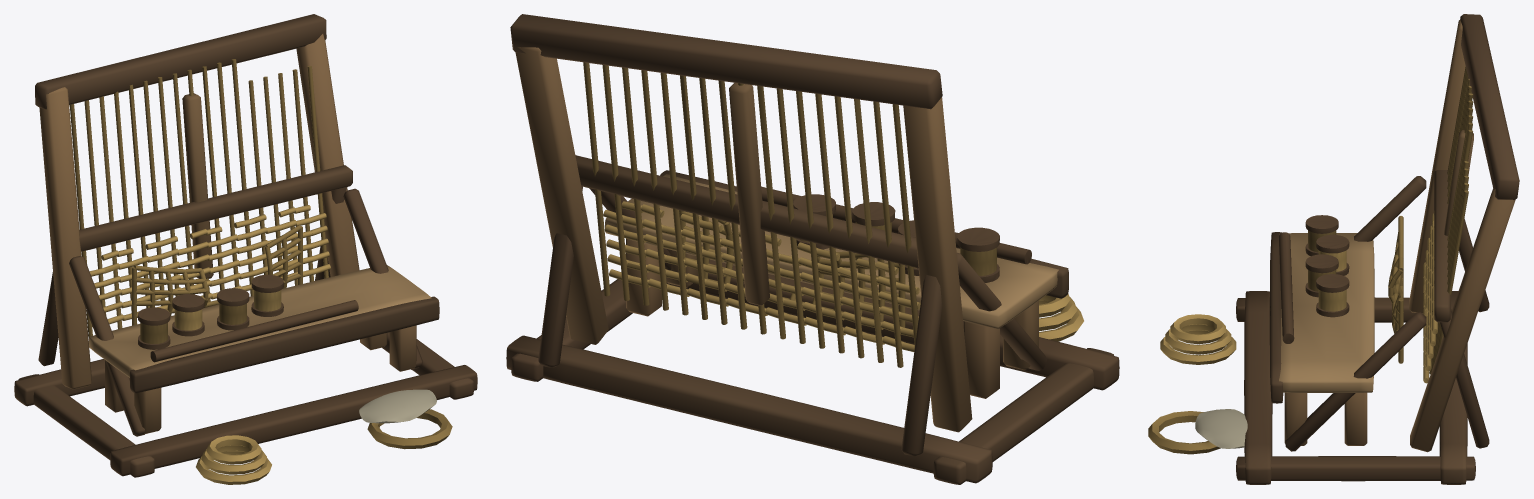
Rendered from loom_frame_b.glb.
The picture shows the model from 3 angles, left to right: view 1: azimuth 30°, elevation 25°; view 2: azimuth 150°, elevation 25°; view 3: azimuth 270°, elevation 25°; orthographic projection. The views are drawn at different scales.
Visible parts, largest first — view 1: Surface; view 2: Surface; view 3: Surface.
Boxes of the visible parts, x1,y1,x2,y2 form: Surface: (14, 14, 477, 484); Surface: (506, 14, 1119, 484); Surface: (1148, 14, 1519, 484).
Bounding box in the file's own units: 5.6 × 4.58 × 4.95.
